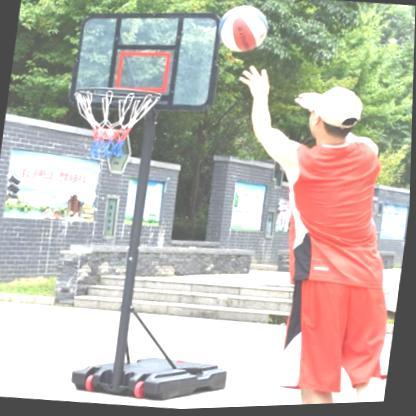basketball: (215, 4, 270, 58)
rim: (70, 84, 163, 167)
